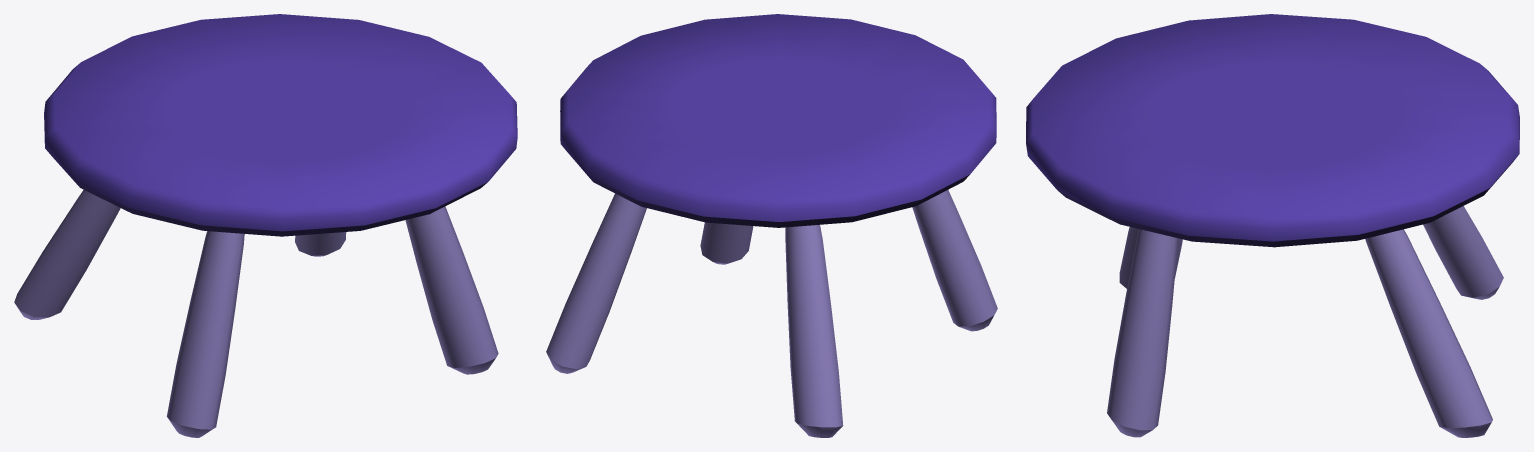
File: kidstable.FBX
3 renders of one model, left to right at view 1: azimuth 30°, elevation 25°; view 2: azimuth 150°, elevation 25°; view 3: azimuth 270°, elevation 25°, orthographic. The views are drawn at different scales.
Visible parts, largest first — view 1: KidsTable; view 2: KidsTable; view 3: KidsTable.
Part boxes in pixels (x1,y1,x2,y2): KidsTable: [14, 14, 517, 437]; KidsTable: [546, 14, 997, 437]; KidsTable: [1026, 14, 1519, 437].
Bounding box in the file's own units: 53.14 × 30.16 × 52.92.
Materials: 1 (1 with a texture image).
